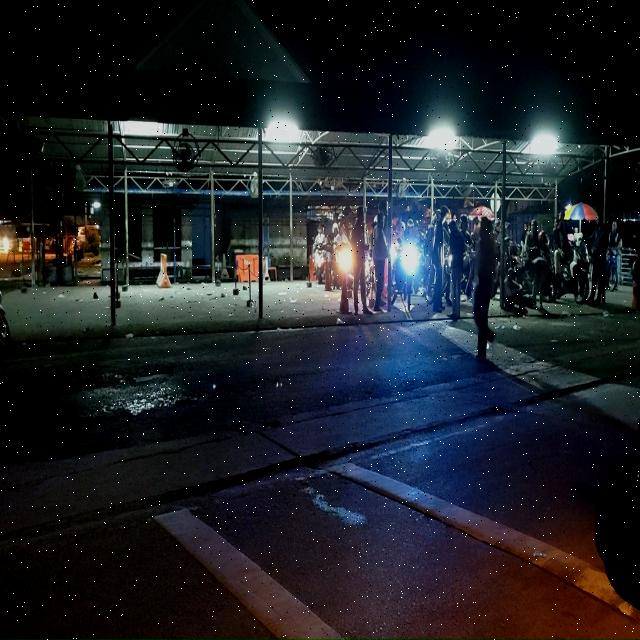Golongan II: (549, 236, 589, 304), (391, 243, 420, 310), (314, 244, 332, 284), (606, 248, 618, 292)
